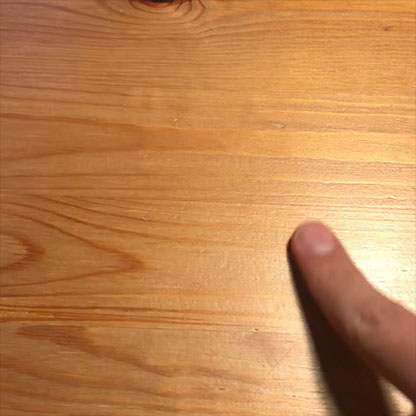fingertip: (285, 213, 339, 266)
